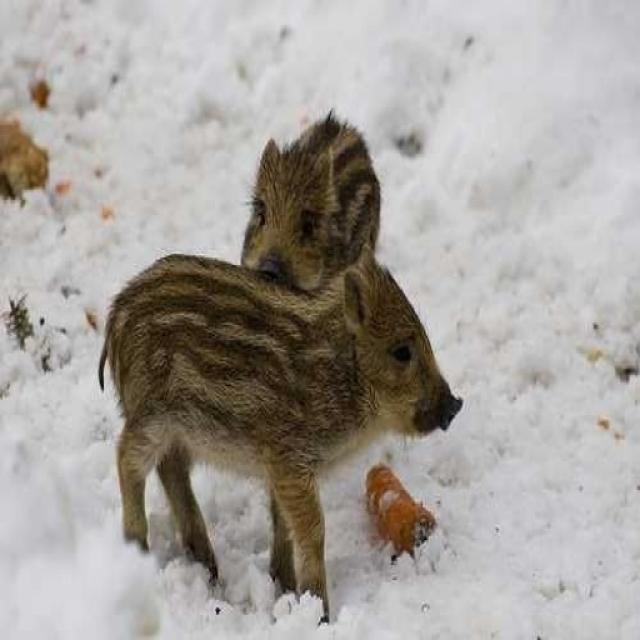pig: (4, 245, 463, 570), (218, 84, 396, 309)
